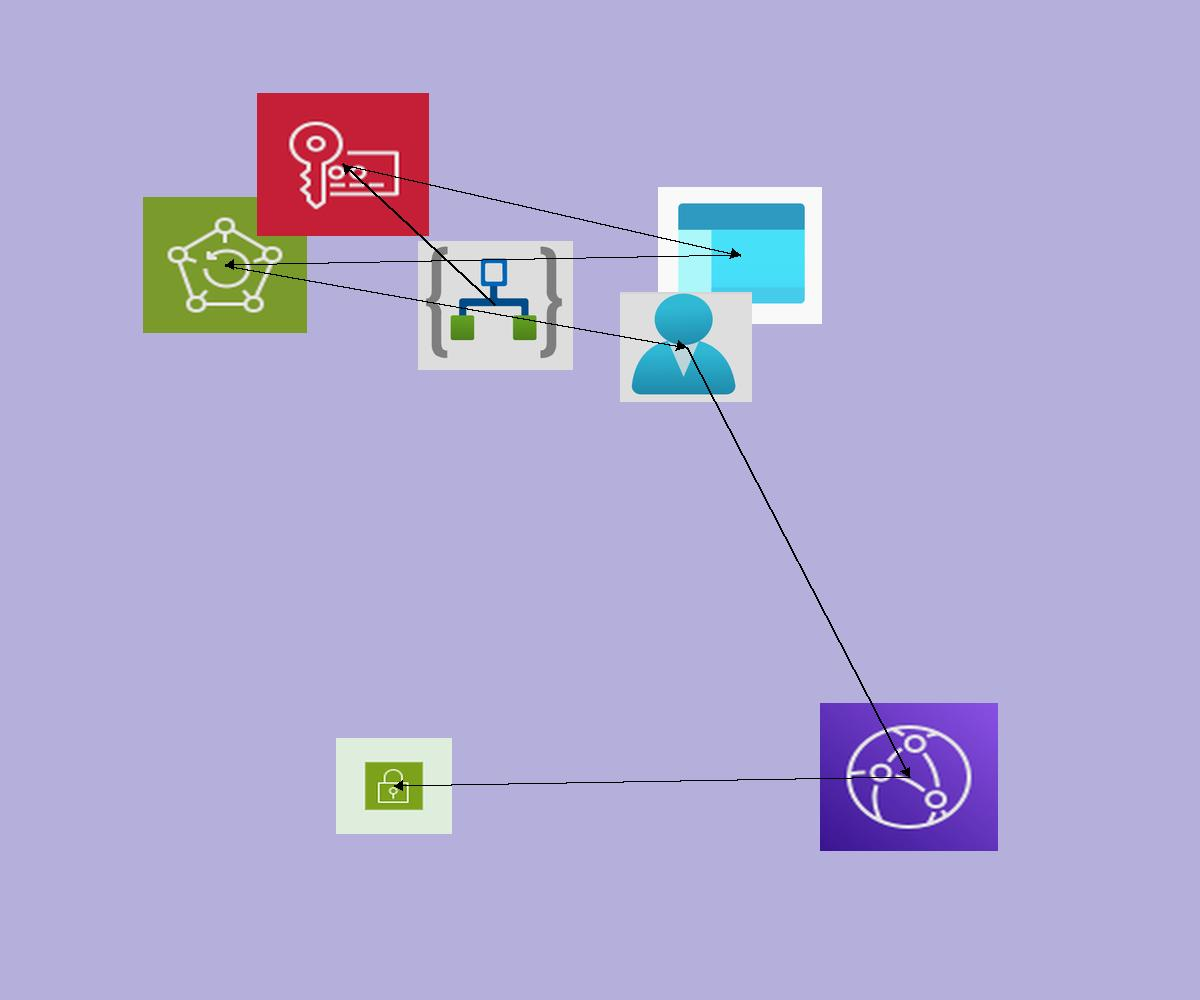AWS-Backup: (143, 197, 307, 333)
AWS-CloudFront: (820, 703, 998, 851)
AWS-Key-Management-Service: (257, 93, 429, 236)
AWS-Public-subnet: (336, 738, 452, 834)
Azure_integration-204-Logic-Apps: (418, 241, 573, 370)
Azure_management-portal: (658, 187, 822, 324)
Azure_users: (620, 292, 752, 402)
